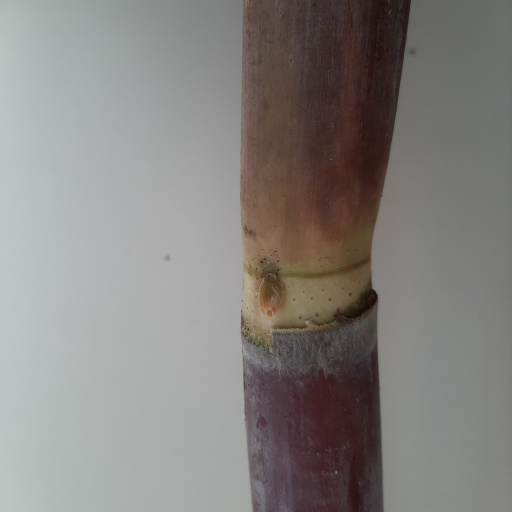Bud: (256, 275, 286, 322)
